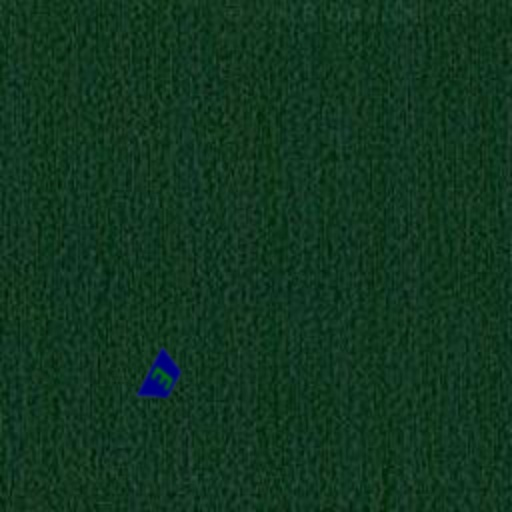trapezoid: (124, 340, 200, 416)
